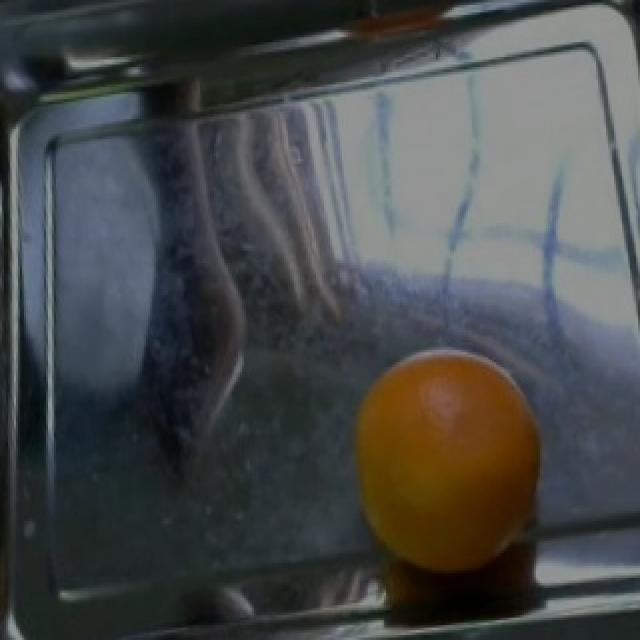Fruit: (348, 338, 546, 586)
